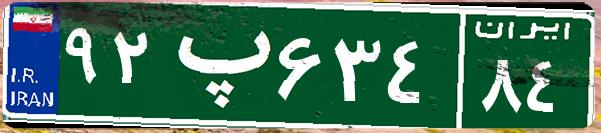2: (110, 28, 158, 105)
3: (330, 28, 385, 110)
4: (385, 28, 445, 110), (525, 38, 570, 115)
6: (273, 28, 330, 110)
8: (475, 38, 525, 113)
9: (57, 26, 110, 107)
پ: (158, 15, 273, 115)
